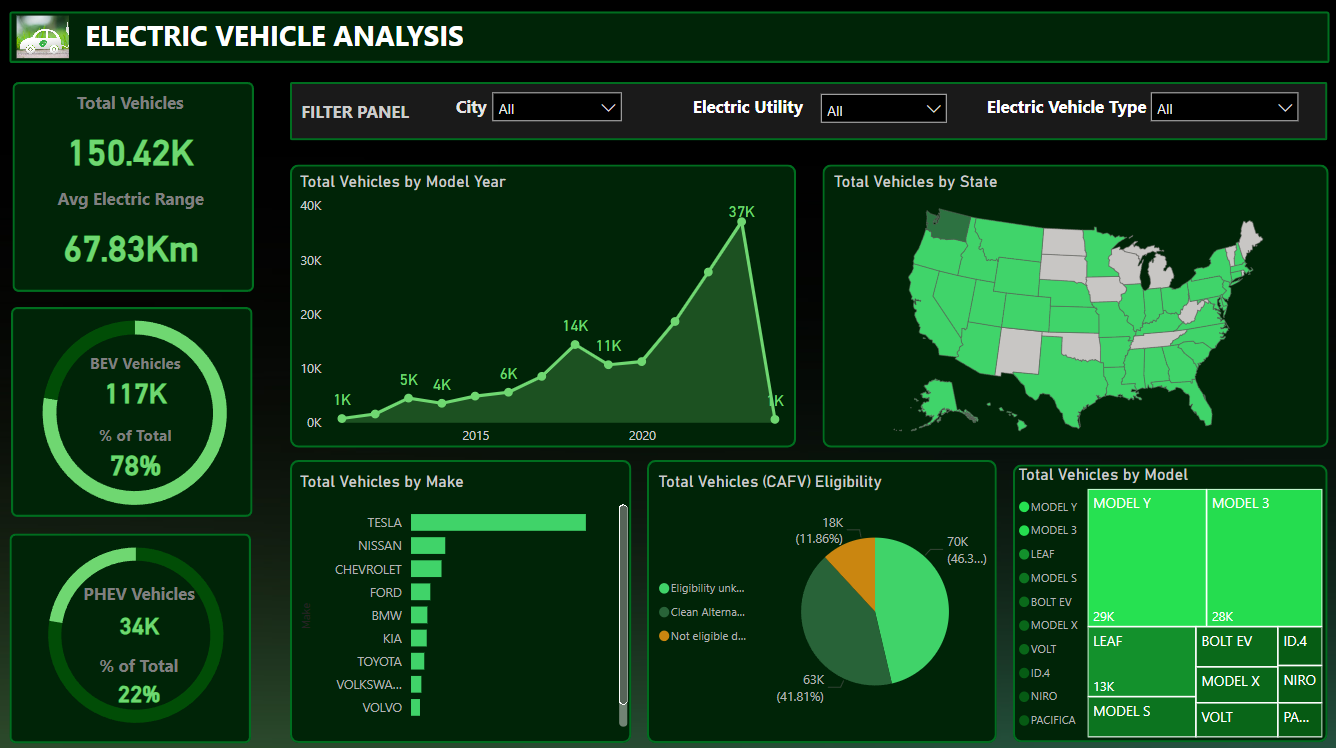

Layout of this report page (visuals, bound fields, positions):
{"tool":"powerbi","page":{"name":"Page 1","canvas":[1280,720],"ordinal":0},"visuals":[{"type":"shape","box":[9.4,15.1,1260.5,49.1],"z":0},{"type":"textbox","box":[77.9,14.3,384.9,52.5],"z":1000},{"type":"shape","box":[12.7,82.7,230.6,200.4],"z":2000},{"type":"card","title":"Total Vehicles","fields":{"Values":["Electric_Vehicle_Population_Data.Total Vehicles"]},"box":[33.4,92.3,184.5,90.7],"z":3000},{"type":"card","title":"Avg Electric Range","fields":{"Values":["Electric_Vehicle_Population_Data.Avg Range"]},"box":[35,182.9,182.9,90.7],"z":4000},{"type":"shape","box":[11.1,297.4,230.6,200.4],"z":5000},{"type":"donutChart","fields":{"Category":["Electric_Vehicle_Population_Data.Electric Vehicle Type"],"Y":["Electric_Vehicle_Population_Data.Total Vehicles"]},"box":[0,283.1,259.3,230.6],"z":6000},{"type":"card","title":"BEV Vehicles","fields":{"Values":["Electric_Vehicle_Population_Data.BEV Vehicles"]},"box":[60.4,340.4,140,57.3],"z":7000},{"type":"card","title":"% of Total","fields":{"Values":["Electric_Vehicle_Population_Data.% of BEV"]},"box":[60.4,410.4,140,57.3],"z":8000},{"type":"shape","box":[9.5,513.8,230.6,200.4],"z":9000},{"type":"card","title":"PHEV Vehicles","fields":{"Values":["Electric_Vehicle_Population_Data.PHEV Vehicles"]},"box":[71.6,559.9,124.1,63.6],"z":10000},{"type":"donutChart","fields":{"Category":["Electric_Vehicle_Population_Data.Electric Vehicle Type"],"Y":["Electric_Vehicle_Population_Data.Total Vehicles"]},"box":[0,501,260.9,219.5],"z":11000},{"type":"card","title":"% of Total","fields":{"Values":["Electric_Vehicle_Population_Data.% of PHEV"]},"box":[58.9,628.3,149.5,55.7],"z":12000},{"type":"shape","box":[278.4,82.7,991,55.7],"z":13000},{"type":"shape","box":[278.4,162.2,483.5,270.4],"z":14000},{"type":"areaChart","fields":{"Category":["Electric_Vehicle_Population_Data.Model Year"],"Y":["Electric_Vehicle_Population_Data.Total Vehicles"]},"box":[281.5,168.6,477.2,270.4],"z":15000},{"type":"shape","box":[785.8,162.2,483.5,270.4],"z":16000},{"type":"shapeMap","fields":{"Category":["Electric_Vehicle_Population_Data.State"],"Value":["Electric_Vehicle_Population_Data.Total Vehicles"]},"box":[792.1,168.6,477.2,264],"z":17000},{"type":"shape","box":[278.4,443.8,326.1,270.4],"z":18000},{"type":"barChart","fields":{"Category":["Electric_Vehicle_Population_Data.Make"],"Y":["Electric_Vehicle_Population_Data.Total Vehicles"]},"box":[281.5,454.9,322.9,248.1],"z":19000},{"type":"shape","box":[618.7,443.8,334,270.4],"z":20000},{"type":"pieChart","title":"Total Vehicles (CAFV) Eligibility","fields":{"Category":["Electric_Vehicle_Population_Data.Clean Alternative Fuel Vehicle (CAFV) Eligibility"],"Y":["Electric_Vehicle_Population_Data.Total Vehicles"]},"box":[625.1,454.9,327.7,248.1],"z":21000},{"type":"shape","box":[968.7,448.6,300.6,265.6],"z":22000},{"type":"treemap","fields":{"Group":["Electric_Vehicle_Population_Data.Model"],"Values":["Electric_Vehicle_Population_Data.Total Vehicles"]},"box":[968.7,448.6,300.6,265.6],"z":23000},{"type":"textbox","box":[283.1,93.8,175,38.2],"z":24000},{"type":"slicer","fields":{"Values":["Electric_Vehicle_Population_Data.City"]},"box":[461.3,82.7,143.2,49.3],"z":25000},{"type":"textbox","box":[431.1,90.7,49.3,38.2],"z":26000},{"type":"textbox","box":[656.9,90.7,133.6,38.2],"z":27000},{"type":"slicer","fields":{"Values":["Electric_Vehicle_Population_Data.Electric Utility"]},"box":[774.6,84.3,140,49.3],"z":28000},{"type":"slicer","fields":{"Values":["Electric_Vehicle_Population_Data.Electric Vehicle Type"]},"box":[1089.6,82.7,160.7,49.3],"z":29000},{"type":"textbox","box":[938.5,90.7,175,38.2],"z":30000},{"type":"image","box":[11.1,14.3,60.4,50.9],"z":31000}]}

Visuals, with their boxes in screenshot pixels (x1, y1, x2, y2), scaled from the page's 1280x720 canvas onto the 1336x748 screenshot:
shape: [10,16,1325,67]
textbox: [81,15,483,69]
shape: [13,86,254,294]
"Total Vehicles" card: [35,96,227,190]
"Avg Electric Range" card: [37,190,227,284]
shape: [12,309,252,517]
donutChart - Electric_Vehicle_Population_Data.Electric Vehicle Type x Electric_Vehicle_Population_Data.Total Vehicles: [0,294,271,534]
"BEV Vehicles" card: [63,354,209,413]
"% of Total" card: [63,426,209,486]
shape: [10,534,251,742]
"PHEV Vehicles" card: [75,582,204,648]
donutChart - Electric_Vehicle_Population_Data.Electric Vehicle Type x Electric_Vehicle_Population_Data.Total Vehicles: [0,520,272,747]
"% of Total" card: [61,653,218,711]
shape: [291,86,1325,144]
shape: [291,169,795,449]
areaChart - Electric_Vehicle_Population_Data.Model Year x Electric_Vehicle_Population_Data.Total Vehicles: [294,175,792,456]
shape: [820,169,1325,449]
shapeMap - Electric_Vehicle_Population_Data.State x Electric_Vehicle_Population_Data.Total Vehicles: [827,175,1325,449]
shape: [291,461,631,742]
barChart - Electric_Vehicle_Population_Data.Make x Electric_Vehicle_Population_Data.Total Vehicles: [294,473,631,730]
shape: [646,461,994,742]
"Total Vehicles (CAFV) Eligibility" pieChart: [652,473,994,730]
shape: [1011,466,1325,742]
treemap - Electric_Vehicle_Population_Data.Model x Electric_Vehicle_Population_Data.Total Vehicles: [1011,466,1325,742]
textbox: [295,97,478,137]
slicer - Electric_Vehicle_Population_Data.City: [481,86,631,137]
textbox: [450,94,501,134]
textbox: [686,94,825,134]
slicer - Electric_Vehicle_Population_Data.Electric Utility: [808,88,955,139]
slicer - Electric_Vehicle_Population_Data.Electric Vehicle Type: [1137,86,1305,137]
textbox: [980,94,1162,134]
image: [12,15,75,68]
